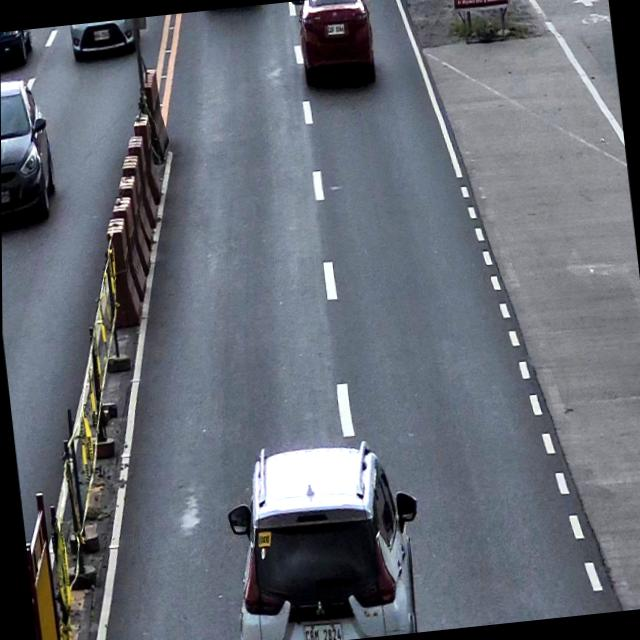Car: (218, 431, 429, 640), (0, 75, 58, 224), (294, 0, 381, 89), (68, 16, 148, 62), (0, 29, 33, 71)
License-Plate: (300, 621, 343, 640), (326, 22, 345, 36), (91, 28, 111, 41), (1, 189, 12, 204)
